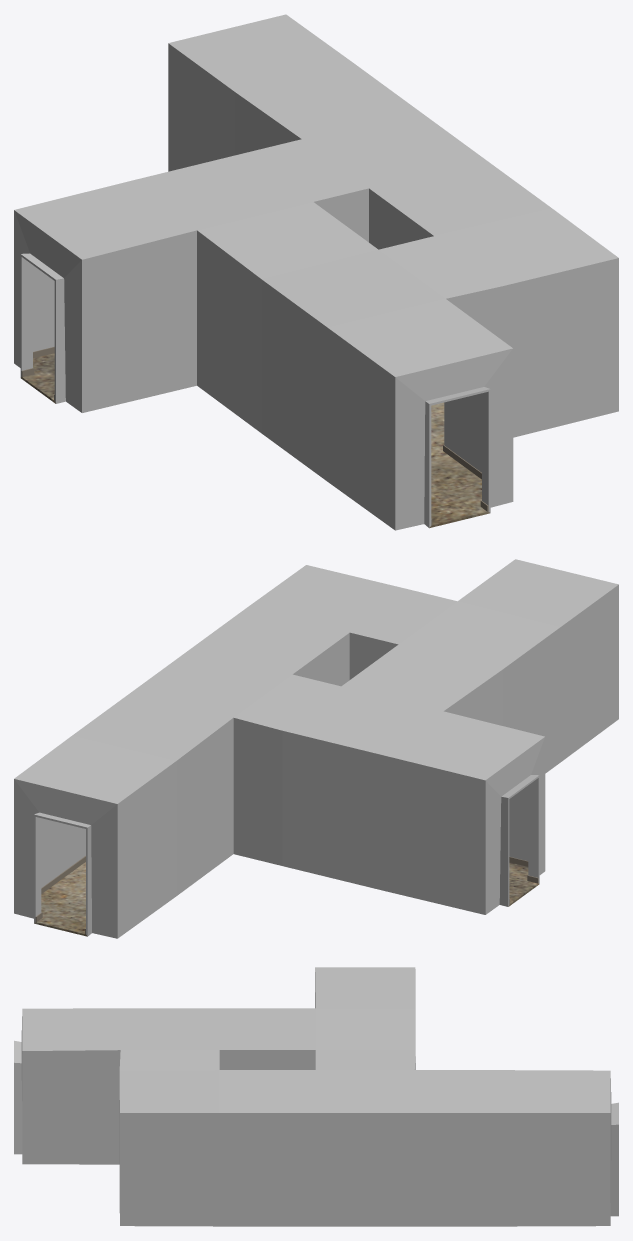
Rendered from Hallway_3.fbx.
3 renders of one model, top to bottom at view 1: azimuth 30°, elevation 25°; view 2: azimuth 150°, elevation 25°; view 3: azimuth 270°, elevation 25°, orthographic. The views are drawn at different scales.
Parts seen in each view (by area): view 1: Hallway_3; view 2: Hallway_3; view 3: Hallway_3.
Boxes of the visible parts, x1,y1,x2,y2 form: Hallway_3: (14, 14, 618, 530); Hallway_3: (14, 559, 618, 938); Hallway_3: (14, 967, 618, 1226).
Size of the model in its own units: 724 by 259 by 1240.
